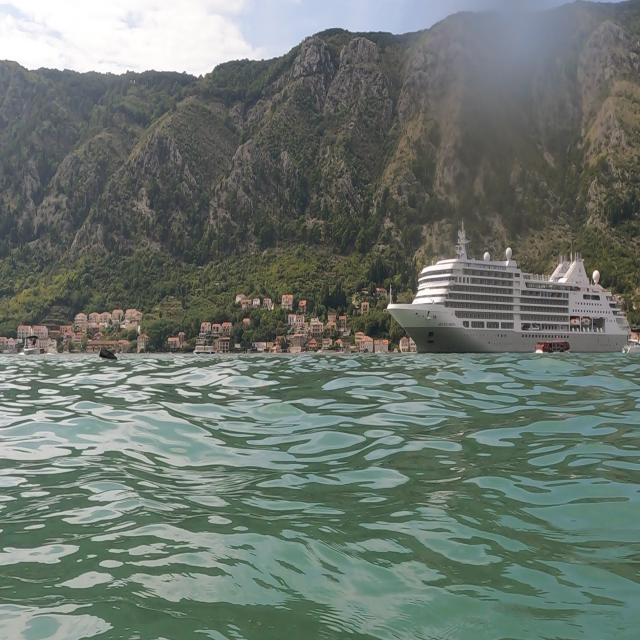boat: (384, 216, 633, 358)
buoy: (93, 342, 125, 373)
